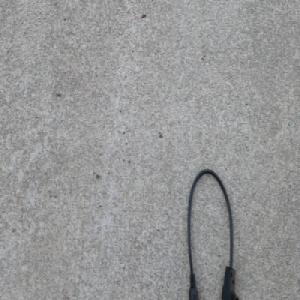Wire: (183, 165, 236, 300)
